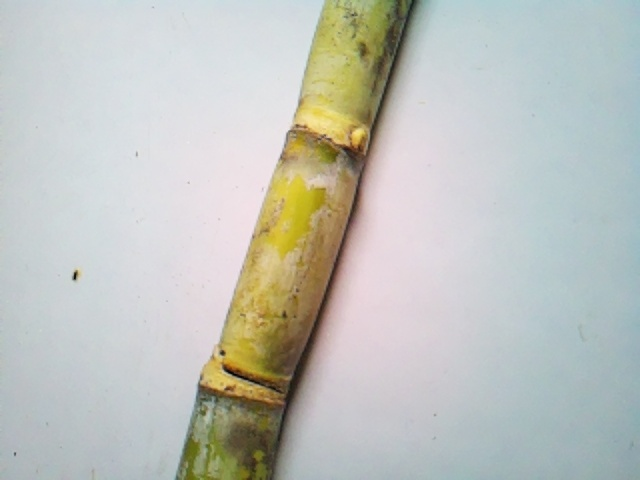Good Sugarcane: (172, 0, 418, 480)
Node: (186, 339, 303, 411), (283, 95, 372, 171)
